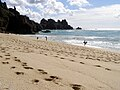human_footprint: (31, 68, 63, 86), (37, 69, 61, 84), (44, 76, 61, 84), (0, 52, 11, 60), (21, 62, 33, 69), (94, 65, 110, 70), (70, 84, 84, 89), (13, 56, 21, 62), (37, 69, 47, 73), (32, 79, 39, 84), (15, 71, 23, 74), (21, 62, 27, 65), (23, 66, 32, 68), (5, 53, 10, 56), (54, 55, 59, 58), (11, 66, 16, 69), (45, 78, 52, 80), (2, 61, 8, 63), (69, 59, 74, 61), (60, 57, 65, 59), (105, 68, 110, 70), (15, 59, 20, 61), (80, 62, 85, 64), (0, 55, 3, 58), (5, 57, 9, 59), (94, 65, 101, 66)
